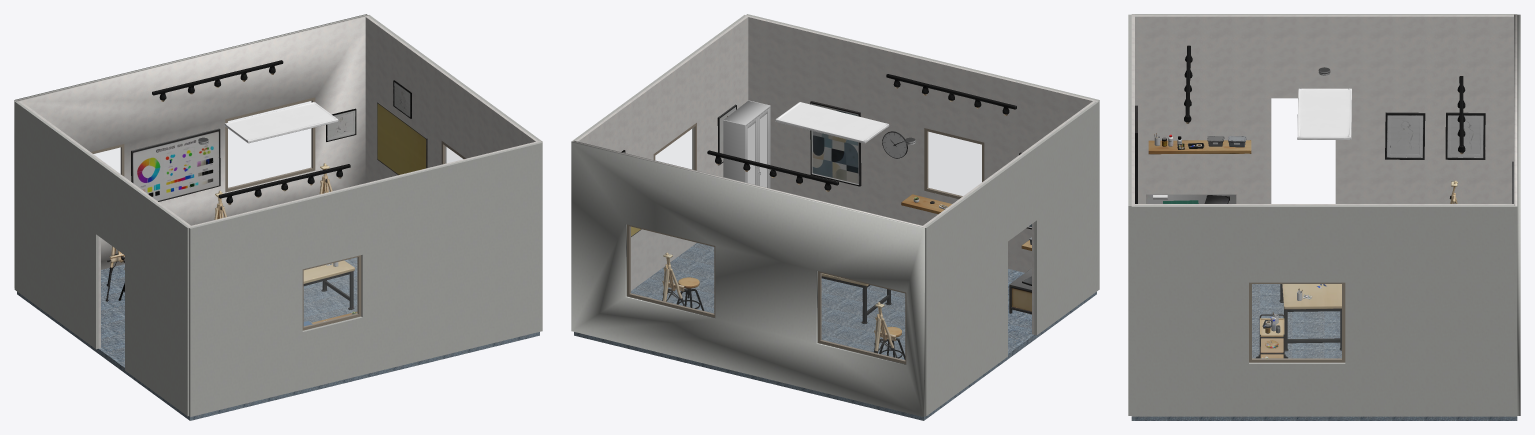
Rendered from scene_web.glb.
3 views of the same model, side by side, from view 1: azimuth 30°, elevation 25°; view 2: azimuth 150°, elevation 25°; view 3: azimuth 270°, elevation 25° (orthographic). The views are drawn at different scales.
Visible parts, largest first — view 1: geometry_0.003, geometry_0.007, geometry_0, geometry_0.004, Mesh_0, geometry_0.023, glass.001, glass.002, geometry_0.017, geometry_0.029, frame.001, geometry_0.016 (+9 smaller); view 2: geometry_0.001, geometry_0.002, geometry_0.007, geometry_0.004, Mesh_0, glass, glass.001, glass.002, geometry_0.019, geometry_0.029, P_ebb5f6f3a411bfcc.001, frame.001 (+17 smaller); view 3: geometry_0.005, geometry_0.006, glass.003, Mesh_0, geometry_0.029, geometry_0.016, geometry_0.027, geometry_0.028, geometry_0.001, geometry_0.003, frame.003, geometry_0.026 (+8 smaller).
Part boxes in pixels (box(x1,y1,x2,y2)): geometry_0.003: box(189, 142, 542, 416); geometry_0.007: box(14, 101, 188, 416); geometry_0: box(16, 15, 368, 269); geometry_0.004: box(365, 16, 537, 182); Mesh_0: box(17, 257, 539, 420); geometry_0.023: box(131, 128, 220, 201); glass.001: box(228, 101, 311, 187); glass.002: box(304, 257, 357, 326); geometry_0.017: box(377, 102, 427, 175); geometry_0.029: box(224, 102, 338, 143); frame.001: box(225, 97, 315, 192); geometry_0.016: box(303, 260, 354, 309); geometry_0.001: box(571, 142, 924, 416); geometry_0.002: box(745, 15, 1097, 272); geometry_0.007: box(925, 101, 1099, 416); geometry_0.004: box(576, 16, 748, 290); Mesh_0: box(574, 243, 1096, 420); glass: box(821, 273, 904, 360); glass.001: box(630, 227, 713, 313); glass.002: box(928, 132, 981, 195); geometry_0.019: box(810, 101, 861, 186); geometry_0.029: box(775, 102, 889, 143); P_ebb5f6f3a411bfcc.001: box(723, 120, 745, 182); frame.001: box(627, 224, 715, 317); geometry_0.005: box(1131, 205, 1517, 416); geometry_0.006: box(1135, 15, 1513, 203); glass.003: box(1252, 284, 1341, 358); Mesh_0: box(1131, 284, 1517, 420); geometry_0.029: box(1297, 88, 1351, 139); geometry_0.016: box(1279, 284, 1341, 351); geometry_0.027: box(1385, 112, 1425, 159); geometry_0.028: box(1445, 112, 1485, 159); geometry_0.001: box(1517, 14, 1520, 415); geometry_0.003: box(1128, 14, 1131, 415); frame.003: box(1249, 282, 1345, 362); geometry_0.026: box(1148, 140, 1251, 154).
Size of the model in its own units: 7.1 by 3.7 by 6.1.
56 materials, 48 textured.
